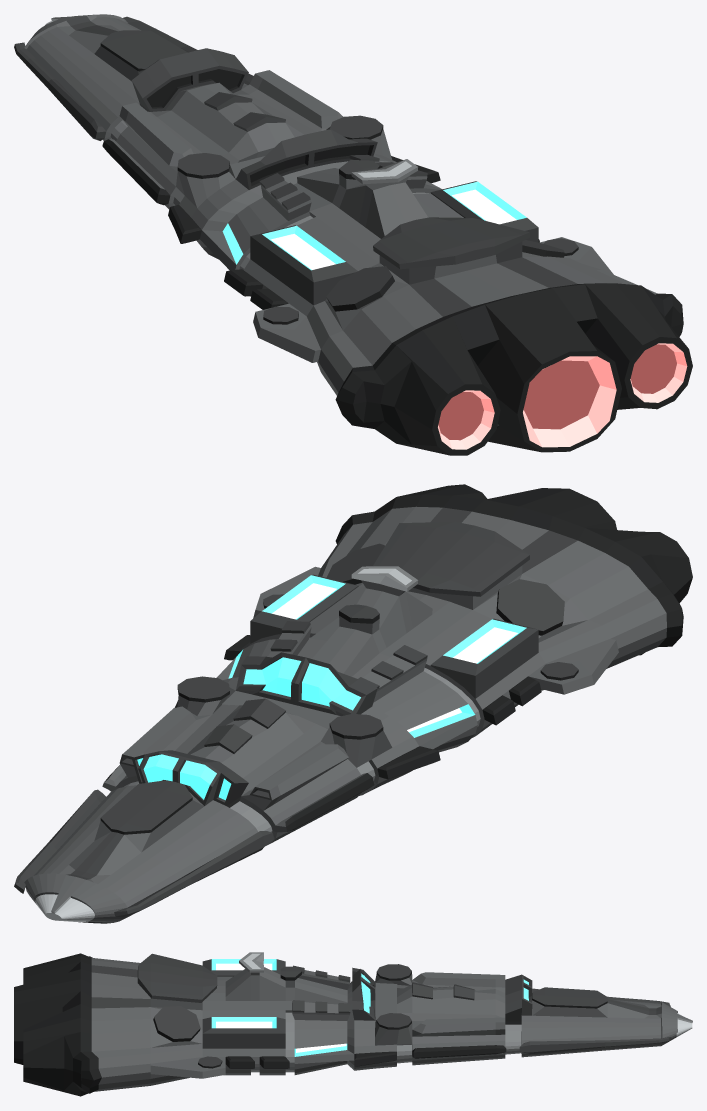
File: Troop_M2_LODGroup.fbx
3 views of the same model, one above another, from view 1: azimuth 30°, elevation 25°; view 2: azimuth 150°, elevation 25°; view 3: azimuth 270°, elevation 25° (orthographic). The views are drawn at different scales.
Visible parts, largest first — view 1: Troop M2_LOD0; view 2: Troop M2_LOD0; view 3: Troop M2_LOD0.
Part boxes in pixels (bbox=[...]): Troop M2_LOD0: bbox=[14, 14, 692, 455]; Troop M2_LOD0: bbox=[14, 484, 692, 923]; Troop M2_LOD0: bbox=[14, 952, 692, 1096].
Size of what is drawn, in the model's own units: 112 by 51.86 by 290.
